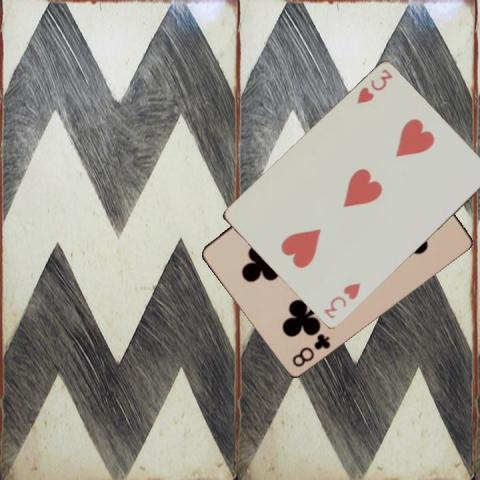3h: (321, 280, 362, 321), (354, 67, 394, 105)
8c: (289, 330, 332, 368)
